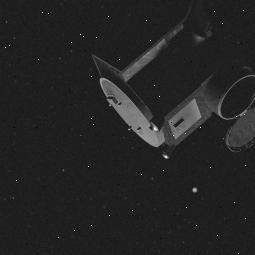cheops: (83, 9, 255, 157)
